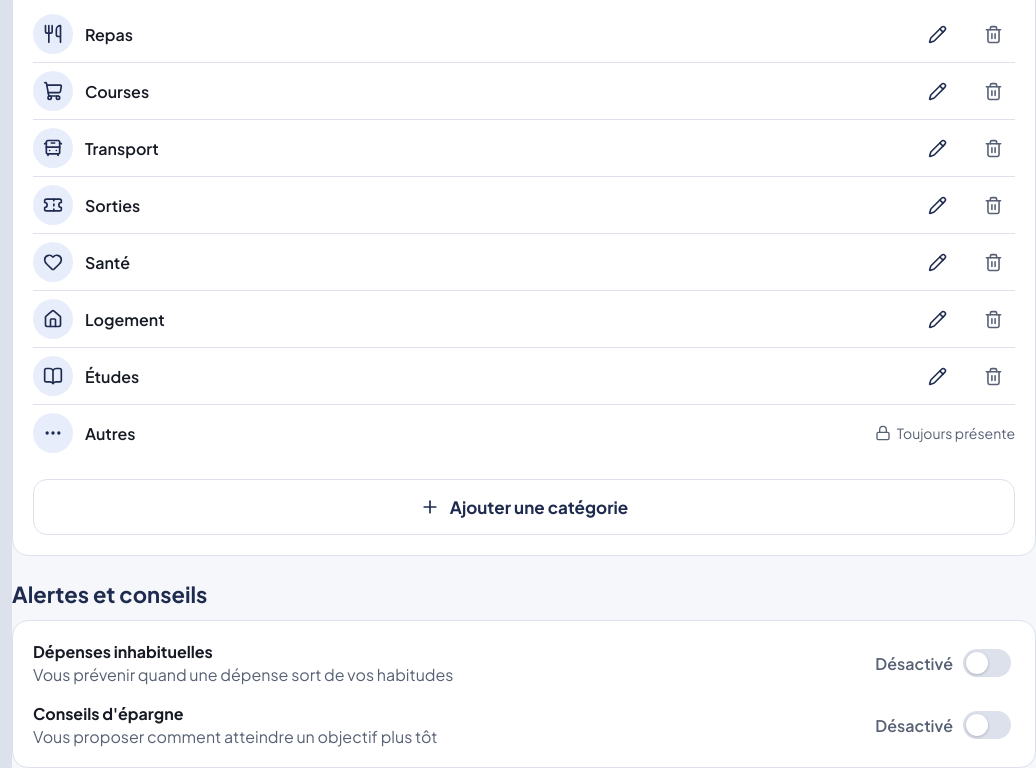
Test case: Réglages › interrupteur désactivé : « Désactivé », réactivation
This screenshot has width=1036, height=768.
(page scrolled)
Click the switch named "Dépenses inhabituelles" at (940, 663), box [865,641,1015,685]
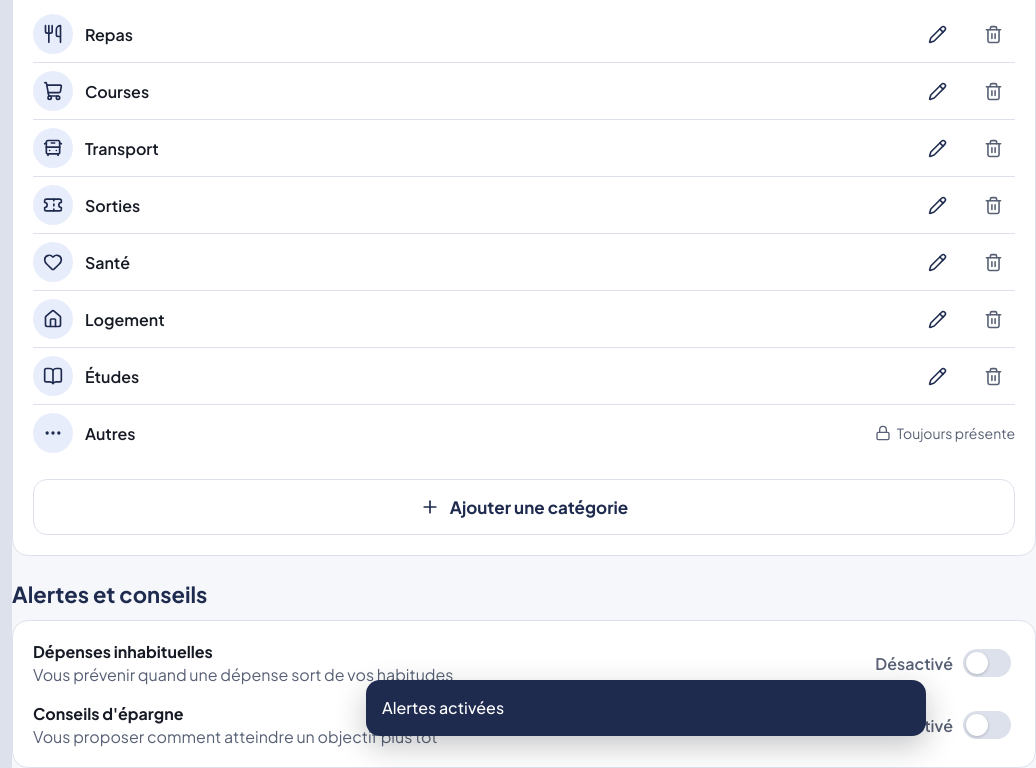
Now the message reads "Alertes activées", box [382,697,504,718]
